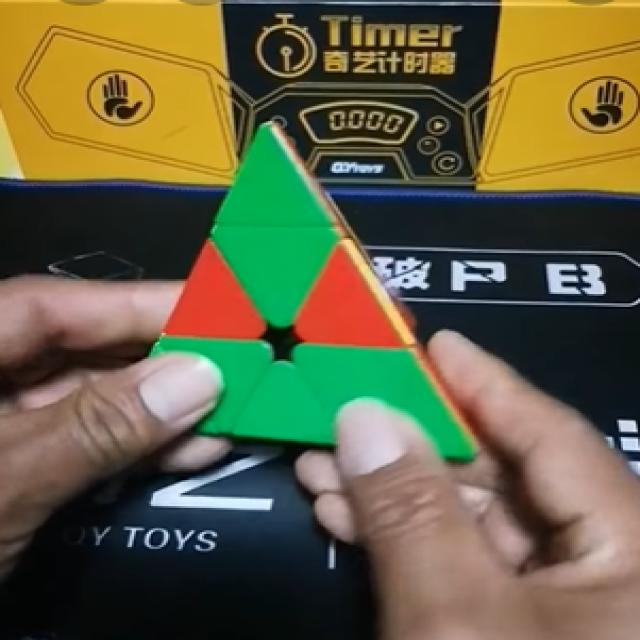Pyraminx: (151, 123, 470, 460)
